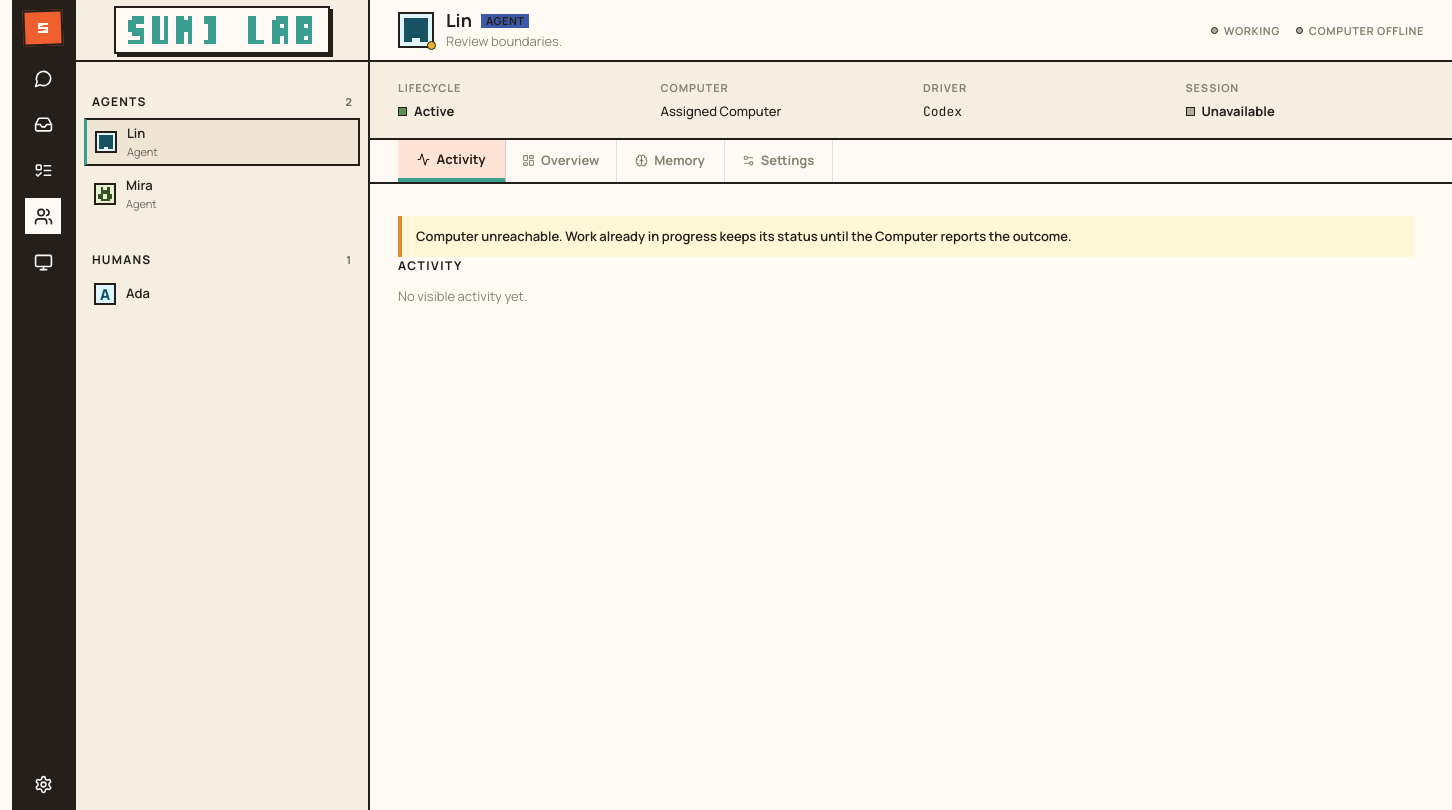
Test: Agent detail › shows Agent-Agent DM metadata only in the Agent management view
This screenshot has width=1452, height=810.
expect the heading "Lin" is shown: met, box [446,10,472,31]
Click the tab "Overview".
click(561, 161)  # box [506,140,616,182]
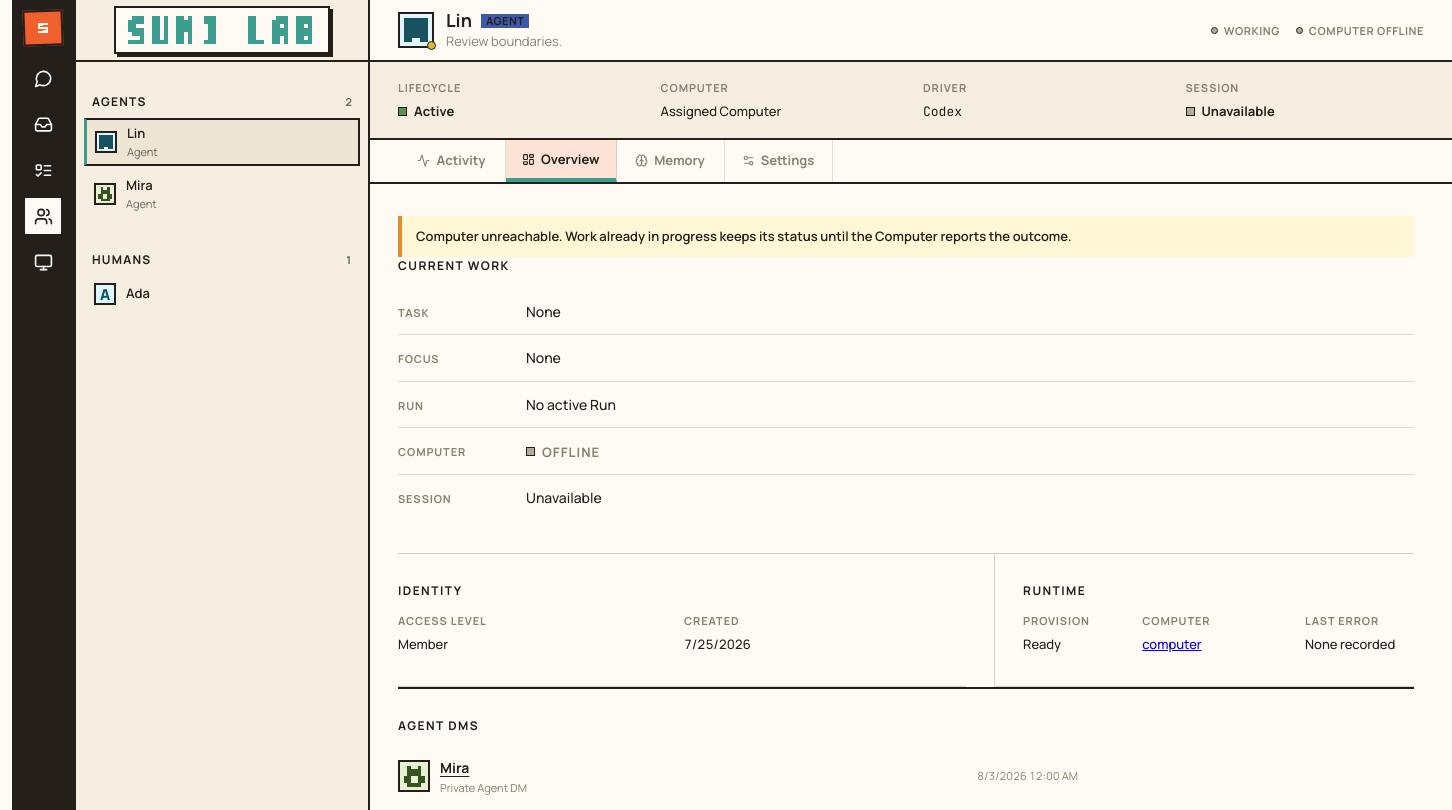
expect the heading "Agent DMs" is shown: met, box [398,716,479,734]
expect the text "Private Agent DM" is shown: met, box [440,780,527,794]
